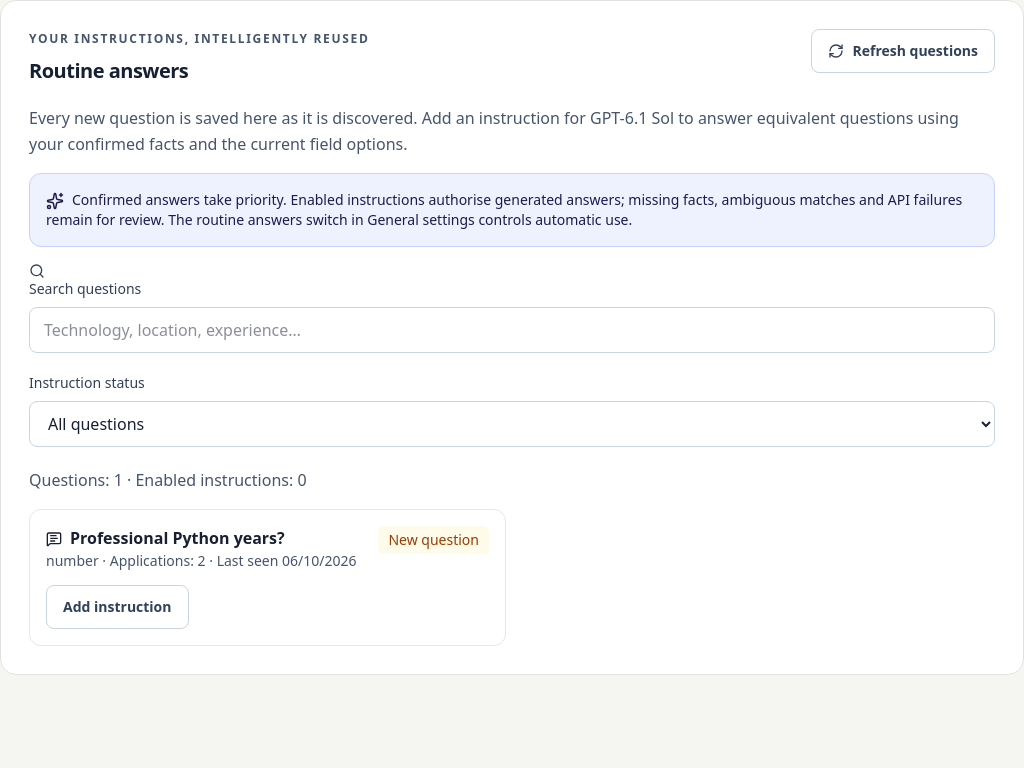
Scenario: preserves editor text on API failure and supports a deliberate retry
Click the button "Add instruction" at (117, 606), box [46,584,188,628]
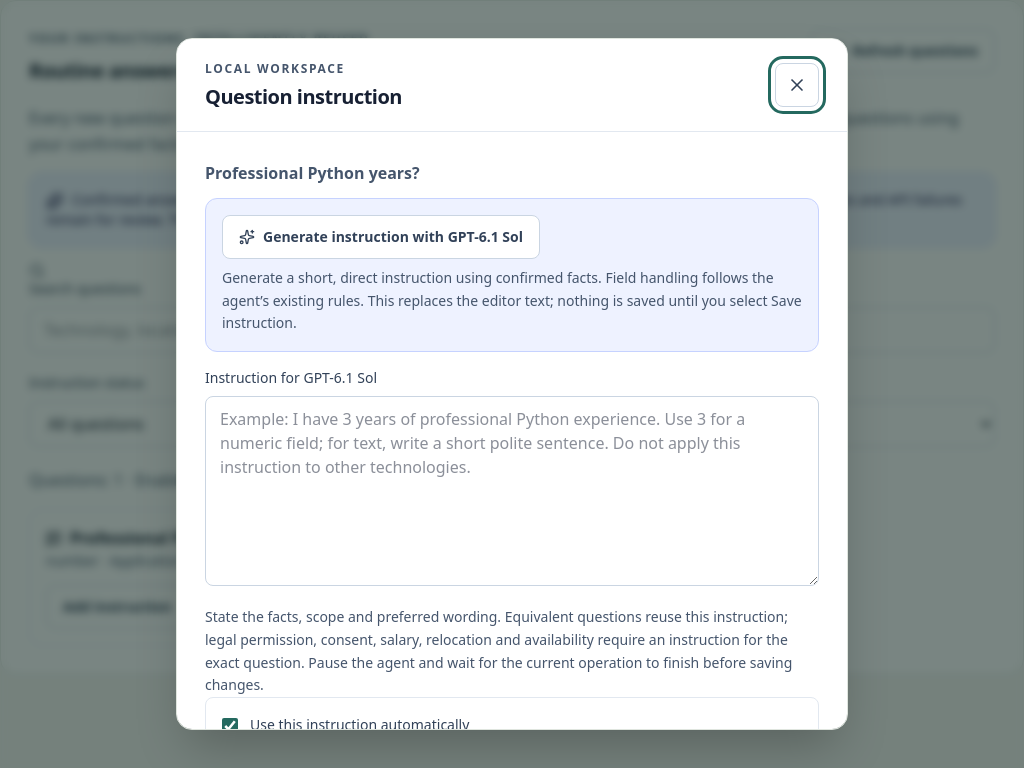
Replace the text in the text box labelled "Instruction for GPT-6.1 Sol" with "Keep my draft" at (512, 491), box [205,396,819,586]
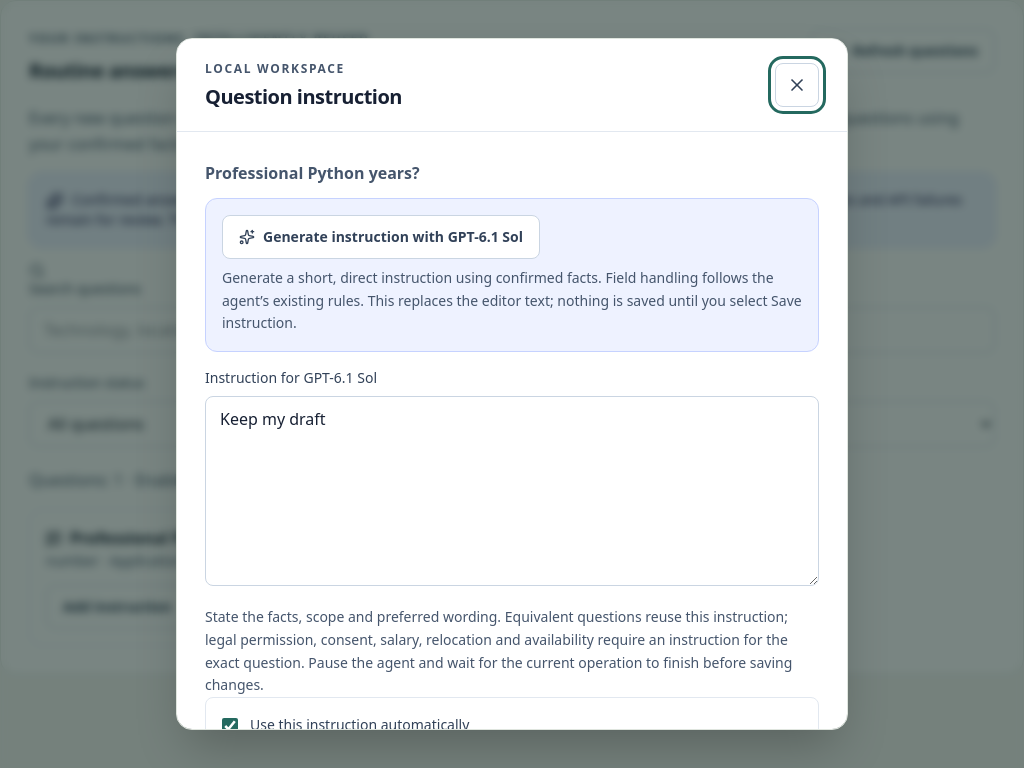
Click the button "Generate instruction with GPT-6.1 Sol" at (381, 237), box [222,215,540,259]
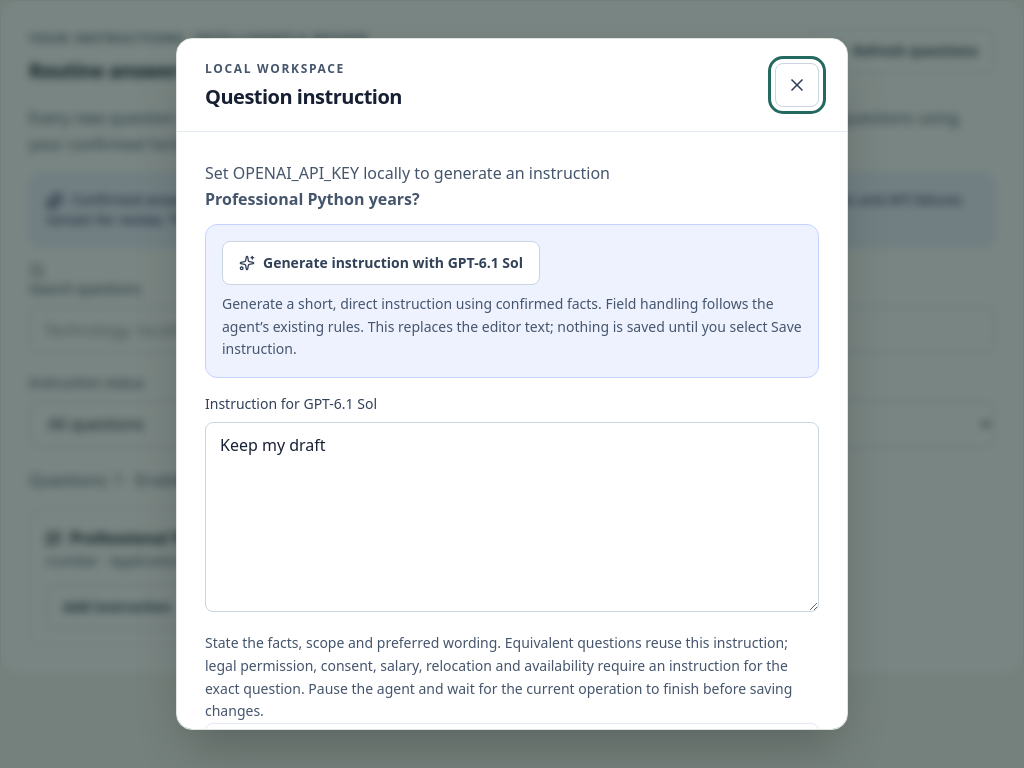
Check: the message "Set OPENAI_API_KEY locally to generate an instruction" is shown, box [205,162,610,184]
Click the button "Generate instruction with GPT-6.1 Sol" at (381, 263), box [222,241,540,285]
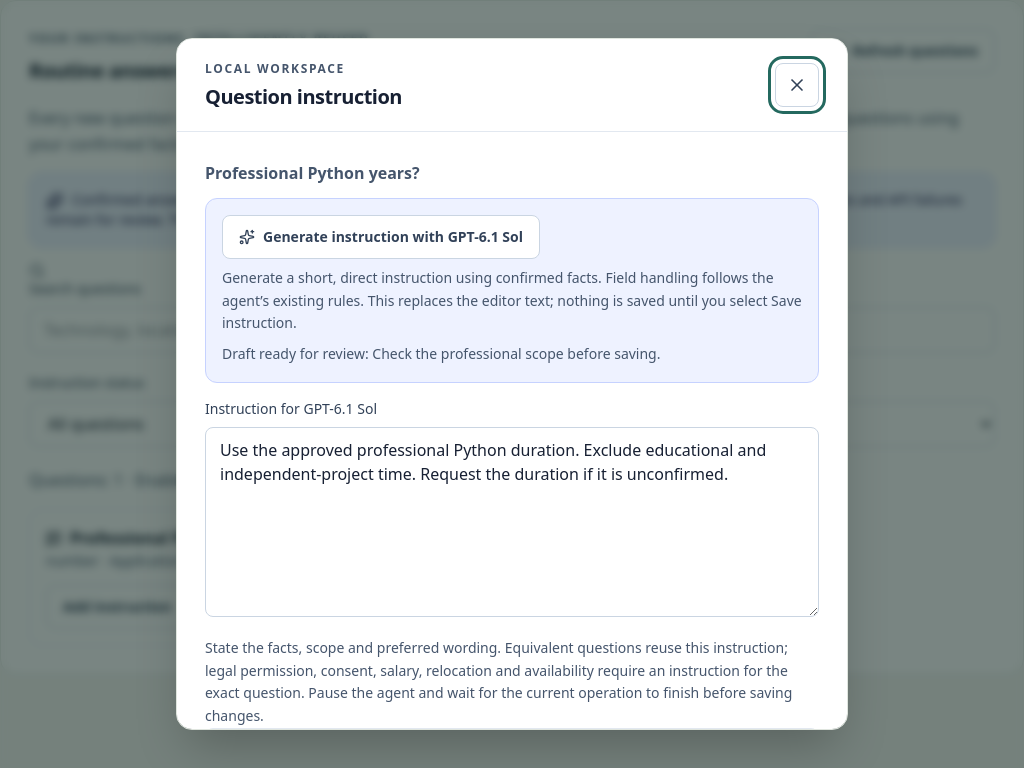
Check: the text box labelled "Instruction for GPT-6.1 Sol" holds "Use the approved professional Python duration. Exclude educational and independent-project time. Request the duration if it is unconfirmed.", box [205,427,819,617]
